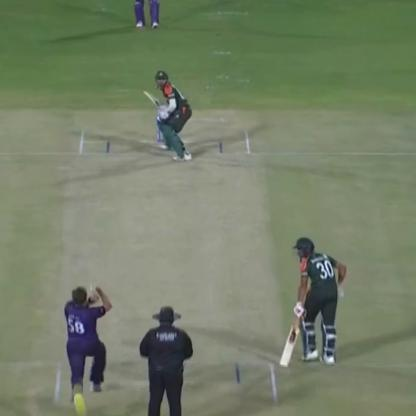ball: (88, 283, 99, 292)
bat: (279, 305, 305, 375), (139, 85, 170, 117)
pitch: (43, 127, 288, 416)
